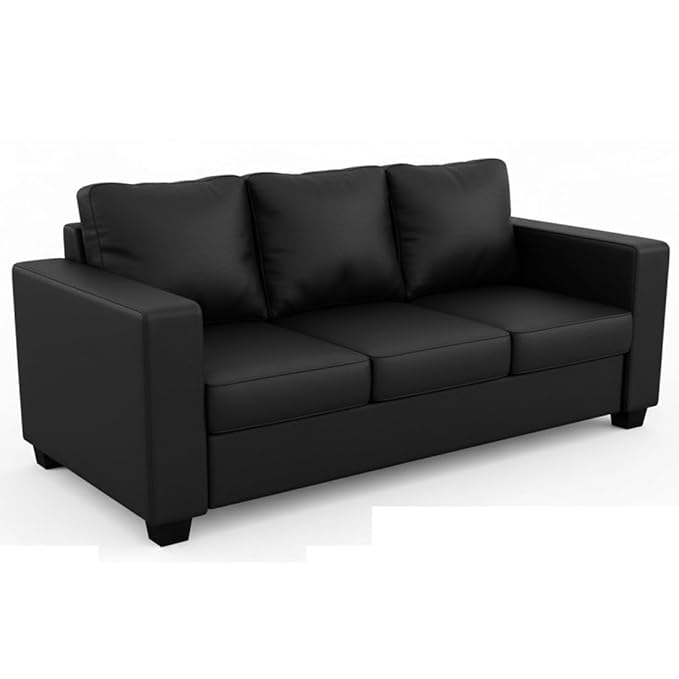3seatersofa: (13, 160, 667, 545)
backrest: (65, 223, 90, 257)
base: (212, 353, 625, 505)
leftarmrest: (512, 217, 665, 407)
leg: (148, 518, 197, 547), (30, 443, 62, 482), (618, 410, 653, 430)
pillow: (87, 177, 277, 332), (252, 163, 408, 307), (405, 157, 512, 283)
rightarmrest: (10, 255, 213, 523)
seat: (207, 275, 632, 430)
